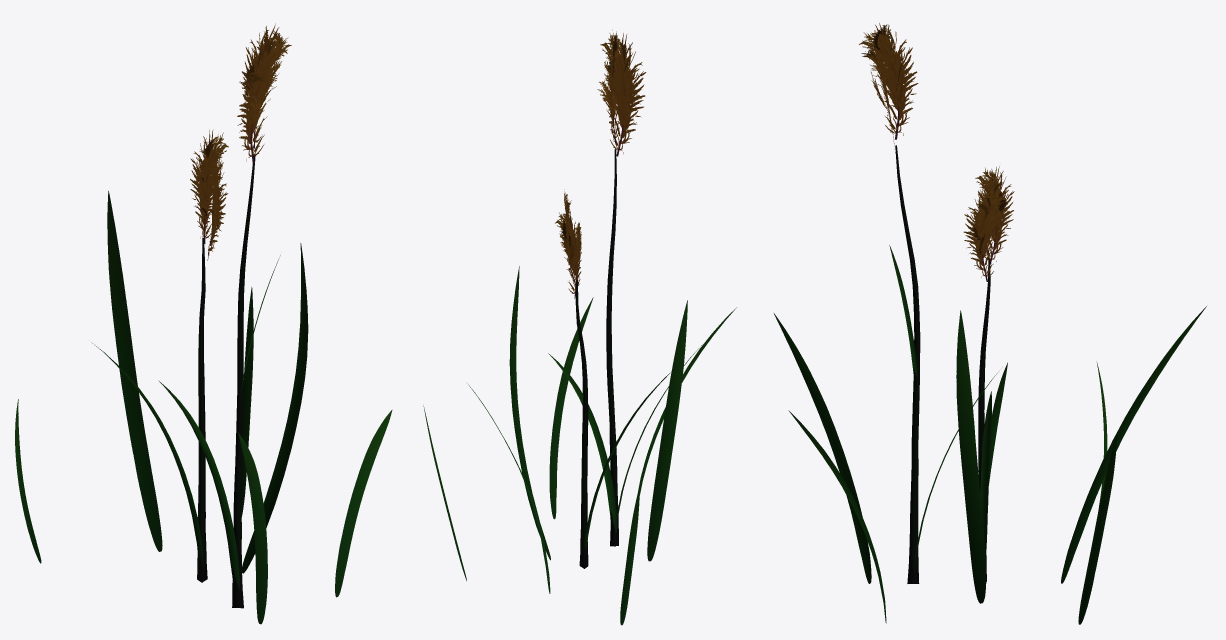
3 renders of one model, left to right at view 1: azimuth 30°, elevation 25°; view 2: azimuth 150°, elevation 25°; view 3: azimuth 270°, elevation 25°, orthographic. The views are drawn at different scales.
Visible parts, largest first — view 1: SM_UmbS_Bullrush_02_LOD0; view 2: SM_UmbS_Bullrush_02_LOD0; view 3: SM_UmbS_Bullrush_02_LOD0.
Boxes of the visible parts, left/top/right/bottom form: SM_UmbS_Bullrush_02_LOD0: left=15, top=23, right=392, bottom=624; SM_UmbS_Bullrush_02_LOD0: left=423, top=30, right=736, bottom=625; SM_UmbS_Bullrush_02_LOD0: left=774, top=23, right=1206, bottom=624.
Size of the model in its own units: 0.6799 by 1.38 by 0.945.
Materials: 1 (1 with a texture image).
